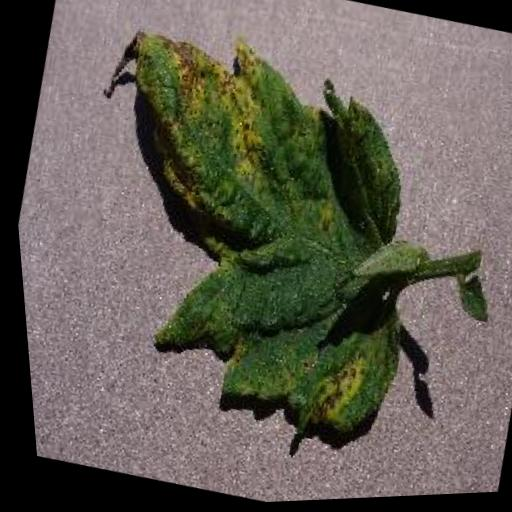Septoria: (21, 10, 467, 485)
